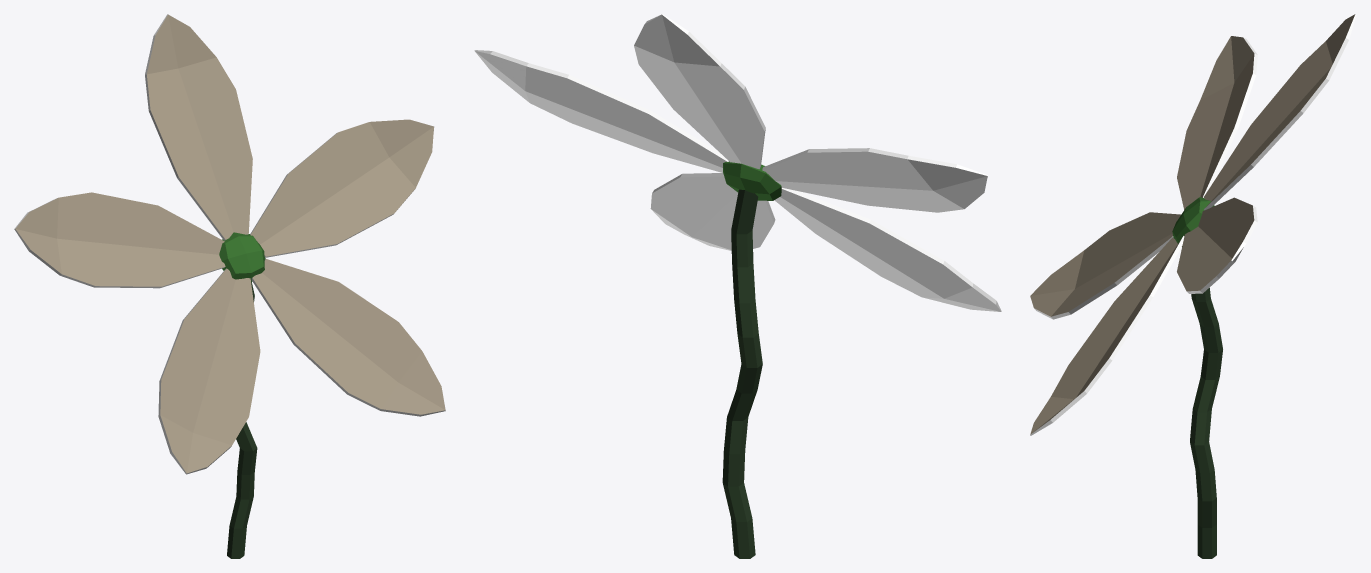
Rendered from Flor medicinal 2.fbx.
The picture shows the model from 3 angles, left to right: view 1: azimuth 30°, elevation 25°; view 2: azimuth 150°, elevation 25°; view 3: azimuth 270°, elevation 25°; orthographic projection. The views are drawn at different scales.
Parts seen in each view (by area): view 1: flor; view 2: flor; view 3: flor.
Part boxes in pixels (x1,y1,x2,y2): flor: (14,14,445,558); flor: (474,14,1001,558); flor: (1030,14,1356,558).
Size of the model in its own units: 30.06 by 33.64 by 18.4.
